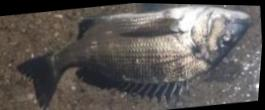fish: (15, 2, 249, 110)
